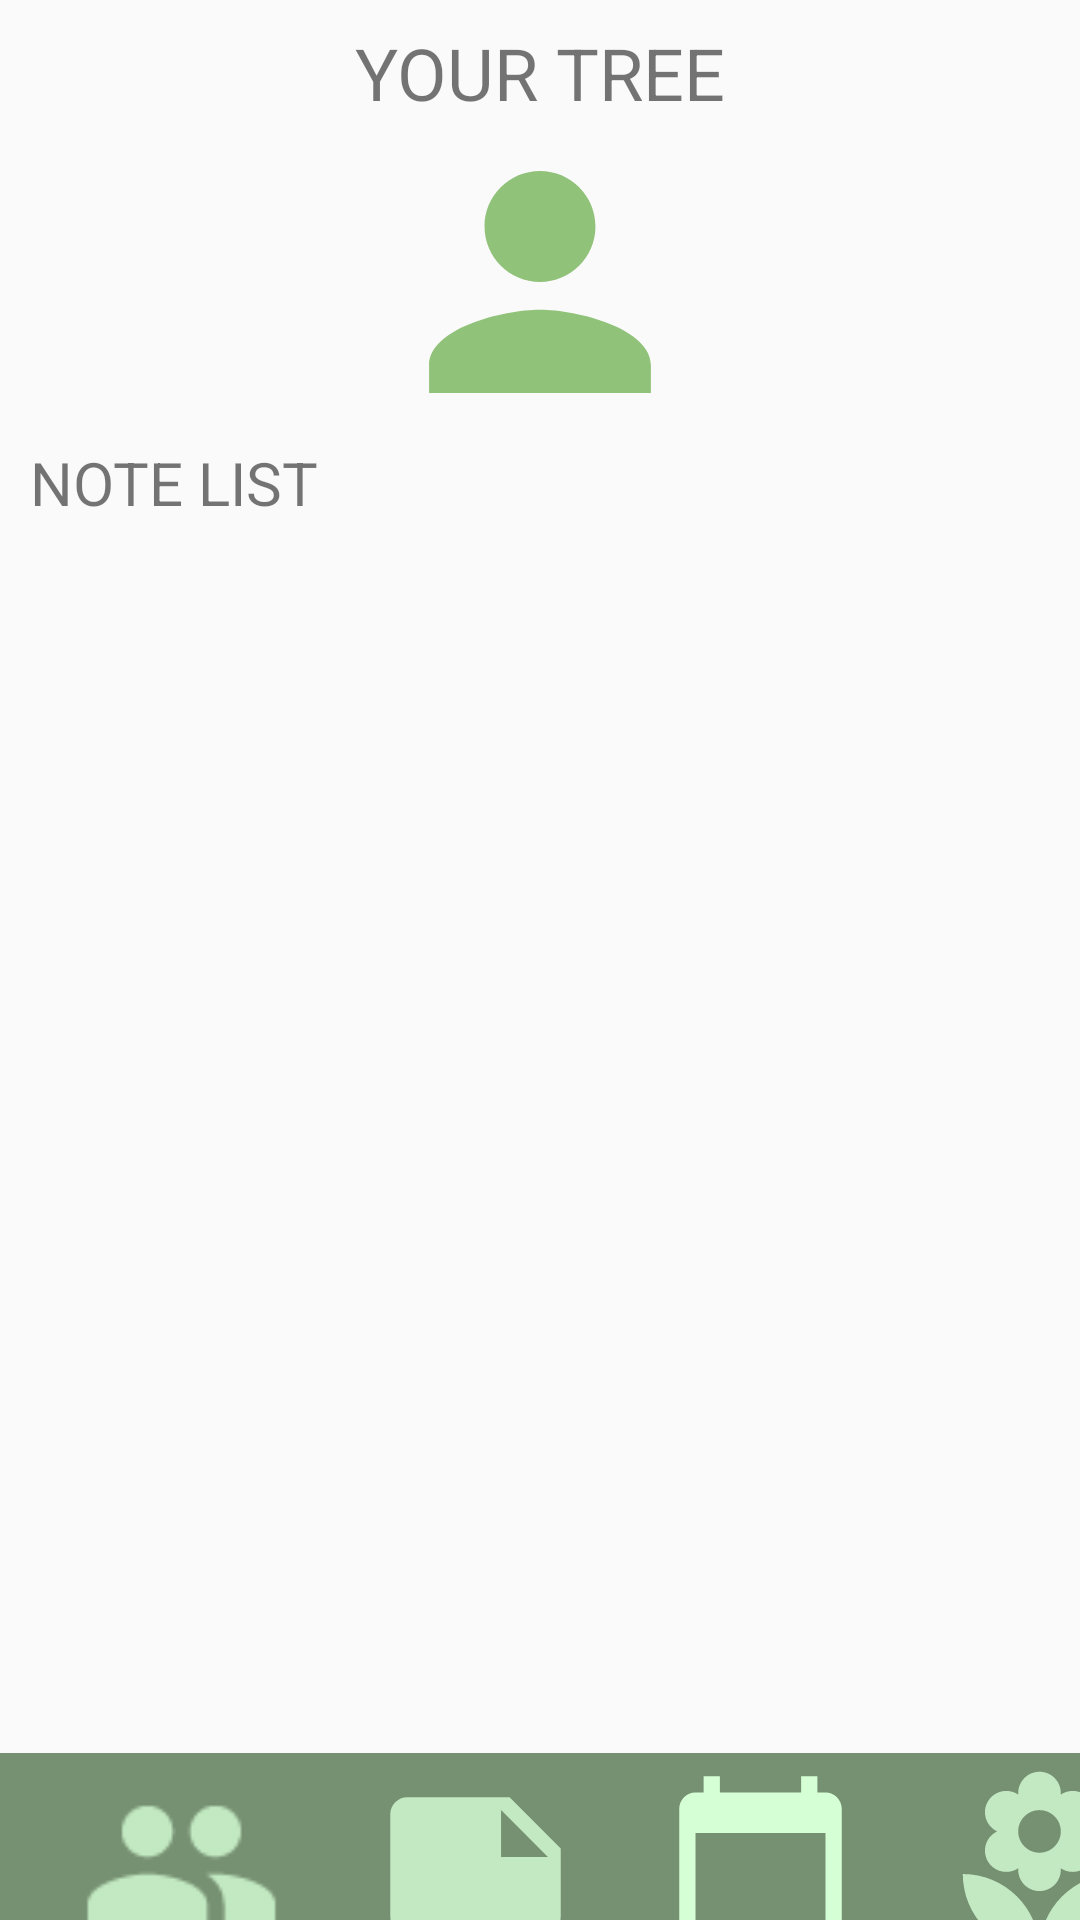

Screen size 1080px×1920px. Icon name, then its box in pixels as (x1, y1, x2, y2):
user: (429, 171, 651, 393)
